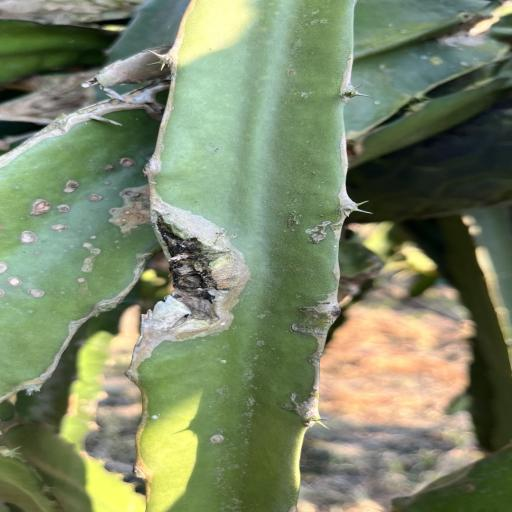stemcanker: (57, 153, 115, 207), (58, 234, 114, 286), (6, 273, 53, 303), (190, 134, 237, 164), (193, 422, 238, 452), (109, 144, 146, 176), (194, 354, 236, 376), (275, 58, 302, 87), (52, 202, 72, 238), (144, 409, 175, 427), (10, 179, 30, 205), (204, 430, 230, 446), (12, 306, 41, 319), (27, 287, 50, 303), (201, 432, 227, 446), (68, 276, 97, 288), (112, 209, 132, 225), (5, 275, 26, 290), (22, 247, 44, 261), (16, 208, 26, 228), (210, 433, 224, 445), (86, 233, 102, 241), (149, 412, 163, 421), (76, 276, 88, 286), (218, 358, 230, 367), (75, 276, 88, 284), (32, 249, 46, 256), (31, 248, 43, 256), (100, 180, 116, 186), (152, 414, 163, 421), (218, 359, 232, 364), (89, 234, 99, 241), (151, 414, 158, 420), (218, 359, 228, 363)
